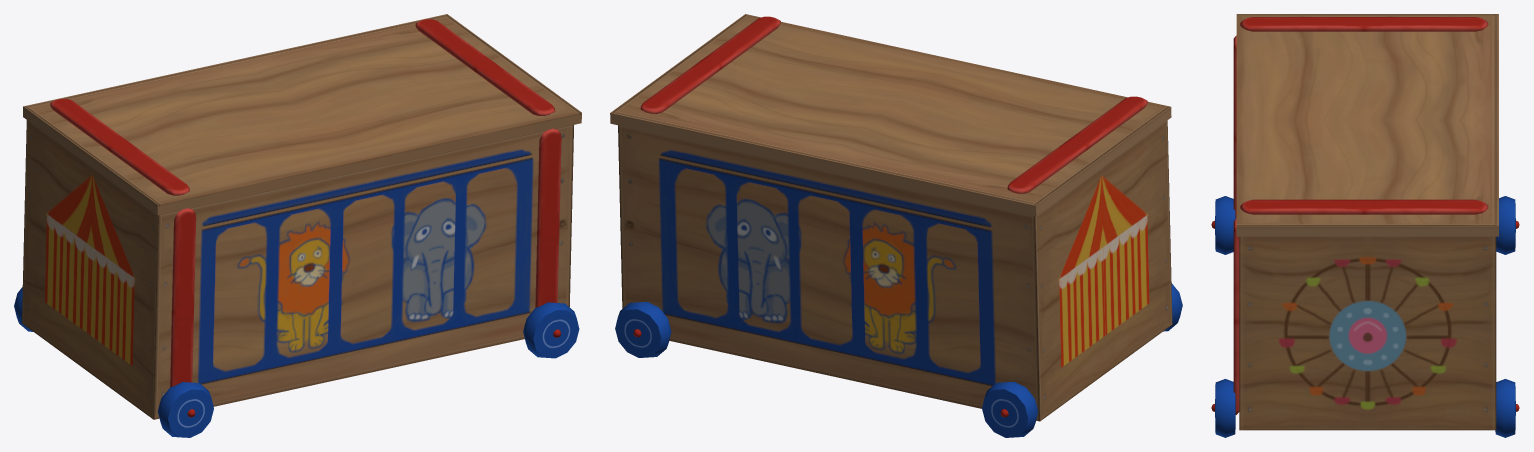
Rendered from ToyBox_Scaled.fbx.
3 renders of one model, left to right at view 1: azimuth 30°, elevation 25°; view 2: azimuth 150°, elevation 25°; view 3: azimuth 270°, elevation 25°, orthographic. The views are drawn at different scales.
Visible parts, largest first — view 1: ToyBox1, ToyBox_Lid1, Toybox_Panel1, Toybox_Panel2, Toybox_Panel4, Toybox_Panel3, Toybox_Wheel1, Toybox_Wheel2; view 2: ToyBox1, ToyBox_Lid1, Toybox_Panel3, Toybox_Panel4, Toybox_Wheel4, Toybox_Wheel3; view 3: ToyBox_Lid1, ToyBox1, Toybox_Panel4, Toybox_Panel3, Toybox_Panel1, Toybox_Wheel1, Toybox_Wheel3, Toybox_Wheel2, Toybox_Wheel4, Toybox_Panel2.
Boxes of the visible parts, box(x1,y1,x2,y2) form: ToyBox1: box(22, 120, 573, 419); ToyBox_Lid1: box(23, 14, 581, 215); Toybox_Panel1: box(535, 128, 561, 307); Toybox_Panel2: box(170, 208, 196, 387); Toybox_Panel4: box(415, 19, 555, 115); Toybox_Panel3: box(50, 99, 189, 195); Toybox_Wheel1: box(523, 302, 579, 358); Toybox_Wheel2: box(157, 382, 213, 437); ToyBox1: box(618, 120, 1172, 421); ToyBox_Lid1: box(610, 14, 1171, 216); Toybox_Panel3: box(1007, 96, 1147, 193); Toybox_Panel4: box(640, 16, 780, 113); Toybox_Wheel4: box(982, 381, 1038, 437); Toybox_Wheel3: box(615, 302, 671, 357); ToyBox_Lid1: box(1236, 14, 1498, 236); ToyBox1: box(1239, 236, 1496, 430); Toybox_Panel4: box(1240, 199, 1488, 214); Toybox_Panel3: box(1240, 17, 1488, 31); Toybox_Panel1: box(1233, 218, 1239, 414); Toybox_Wheel1: box(1215, 379, 1235, 437); Toybox_Wheel3: box(1495, 379, 1515, 437); Toybox_Wheel2: box(1215, 196, 1235, 254); Toybox_Wheel4: box(1496, 196, 1515, 254); Toybox_Panel2: box(1233, 35, 1236, 218).
Bounding box in the file's own units: 73.21 × 40.74 × 46.87.
